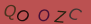C: (69, 7, 82, 20)
O: (16, 9, 29, 22), (38, 8, 50, 22)
Q: (4, 4, 17, 20)
Z: (53, 9, 67, 24)
